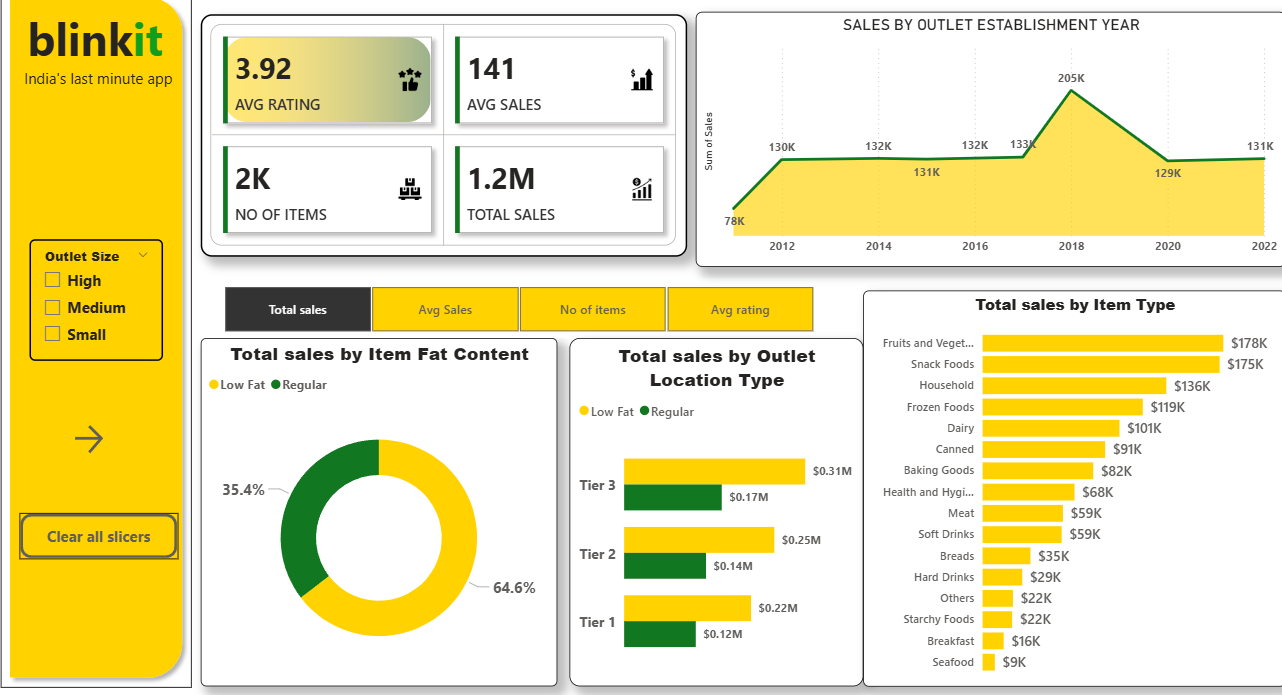

What the dashboard file says about the page in this screenshot:
{"tool":"powerbi","page":{"name":"Page 1","canvas":[1400,800],"ordinal":0},"visuals":[{"type":"shape","box":[10,0,205,750],"z":0},{"type":"textbox","box":[29.5,16.1,162.2,79.1],"z":1000},{"type":"cardVisual","fields":{"Data":["BlinkIT Grocery Data.Avg rating","BlinkIT Grocery Data.Avg Sales","BlinkIT Grocery Data.No of items","BlinkIT Grocery Data.Total sales"]},"box":[223.9,28.2,521.5,260.1],"z":2000},{"type":"donutChart","fields":{"Y":["BlinkIT Grocery Data.Total sales"],"Category":["BlinkIT Grocery Data.Item Fat Content"]},"box":[223.9,375.3,382,374],"z":3000},{"type":"slicer","fields":{"Values":["metrics.metrics"]},"box":[223.9,313.7,681,61.7],"z":4000},{"type":"areaChart","title":"SALES BY OUTLET ESTABLISHMENT YEAR","fields":{"Category":["BlinkIT Grocery Data.Outlet Establishment Year"],"Y":["Sum(BlinkIT Grocery Data.Sales)"]},"box":[754.7,25.5,632.7,273.5],"z":5000},{"type":"clusteredBarChart","title":"Total sales by Outlet Location Type ","fields":{"Y":["BlinkIT Grocery Data.Total sales"],"Category":["BlinkIT Grocery Data.Outlet Location Type"],"Series":["BlinkIT Grocery Data.Item Fat Content"]},"box":[619.3,375.3,315,374],"z":6000},{"type":"barChart","fields":{"Y":["BlinkIT Grocery Data.Total sales"],"Category":["BlinkIT Grocery Data.Item Type"]},"box":[934.3,324.4,453.1,424.9],"z":7000},{"type":"slicer","fields":{"Values":["BlinkIT Grocery Data.Outlet Size"]},"box":[40.2,269.4,143.4,130],"z":8000},{"type":"actionButton","box":[83.1,463.8,100.5,40.2],"z":9000},{"type":"actionButton","box":[29.5,563,170.2,49.6],"z":10000},{"type":"textbox","box":[29.5,80.4,170.2,61.7],"z":11000}]}

Visuals, with their boxes on the page's 1400x800 design canvas (x1, y1, x2, y2). These are canvas units, not pixel positions in the 1282x695 screenshot, which may show the page scaled, cropped or inside an application window:
shape: 10 0 215 750
textbox: 30 16 192 95
cardVisual - BlinkIT Grocery Data.Avg rating x BlinkIT Grocery Data.Avg Sales: 224 28 745 288
donutChart - BlinkIT Grocery Data.Total sales x BlinkIT Grocery Data.Item Fat Content: 224 375 606 749
slicer - metrics.metrics: 224 314 905 375
"SALES BY OUTLET ESTABLISHMENT YEAR" areaChart: 755 26 1387 299
"Total sales by Outlet Location Type " clusteredBarChart: 619 375 934 749
barChart - BlinkIT Grocery Data.Total sales x BlinkIT Grocery Data.Item Type: 934 324 1387 749
slicer - BlinkIT Grocery Data.Outlet Size: 40 269 184 399
actionButton: 83 464 184 504
actionButton: 30 563 200 613
textbox: 30 80 200 142
